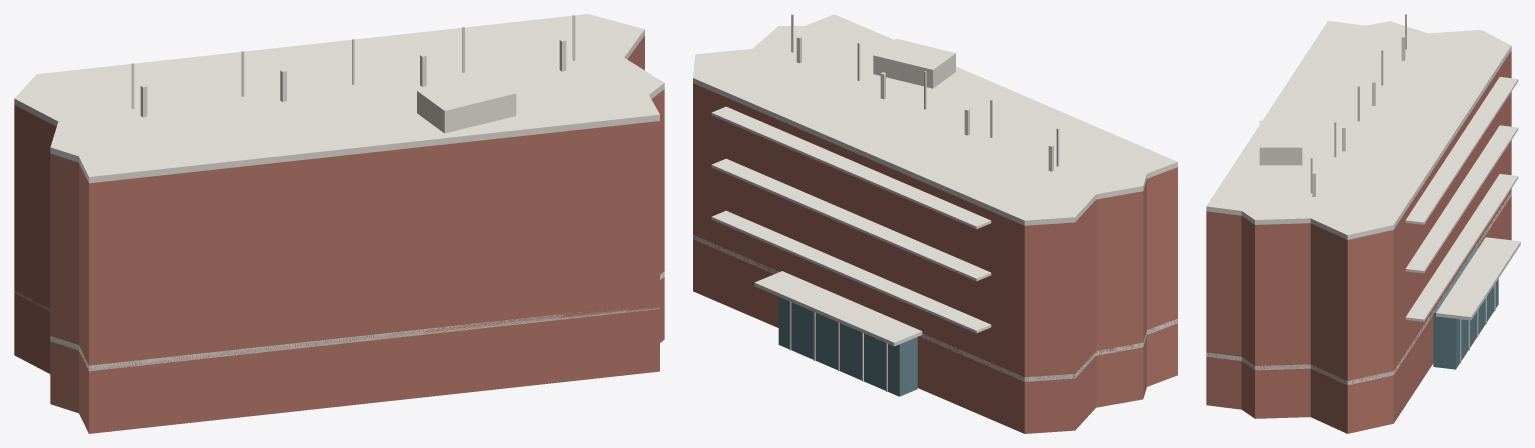
Rendered from cma.glb.
3 views of the same model, side by side, from view 1: azimuth 30°, elevation 25°; view 2: azimuth 150°, elevation 25°; view 3: azimuth 270°, elevation 25° (orthographic). The views are drawn at different scales.
Visible parts, largest first — view 1: CMA_tower, CMA_roof_slab, CMA_podium, CMA_roof_plant, CMA_band; view 2: CMA_tower, CMA_roof_slab, CMA_podium, CMA_atrium, CMA_terrace_2, CMA_terrace_0, CMA_terrace_1, CMA_canopy, CMA_roof_plant, CMA_band; view 3: CMA_roof_slab, CMA_tower, CMA_podium, CMA_terrace_1, CMA_terrace_2, CMA_terrace_0, CMA_canopy, CMA_atrium, CMA_roof_plant, CMA_band.
Part boxes in pixels (x1,y1,x2,y2): CMA_tower: (14,36,664,370); CMA_roof_slab: (14,14,664,183); CMA_podium: (14,277,664,433); CMA_roof_plant: (417,73,516,133); CMA_band: (14,271,664,371); CMA_tower: (693,83,1177,381); CMA_roof_slab: (693,14,1177,225); CMA_podium: (693,239,1177,433); CMA_atrium: (778,297,917,396); CMA_terrace_2: (711,106,991,229); CMA_terrace_0: (711,210,991,333); CMA_terrace_1: (711,158,991,281); CMA_canopy: (754,271,922,346); CMA_roof_plant: (873,38,955,88); CMA_band: (693,235,1177,381); CMA_roof_slab: (1206,20,1511,239); CMA_tower: (1206,50,1511,385); CMA_podium: (1206,196,1511,433); CMA_terrace_1: (1405,125,1518,273); CMA_terrace_2: (1405,77,1518,224); CMA_terrace_0: (1405,174,1518,321); CMA_canopy: (1436,237,1520,320); CMA_atrium: (1433,247,1498,369); CMA_roof_plant: (1259,120,1302,165); CMA_band: (1206,192,1511,385).
Bounding box in the file's own units: 47.47 × 24.8 × 29.41.
